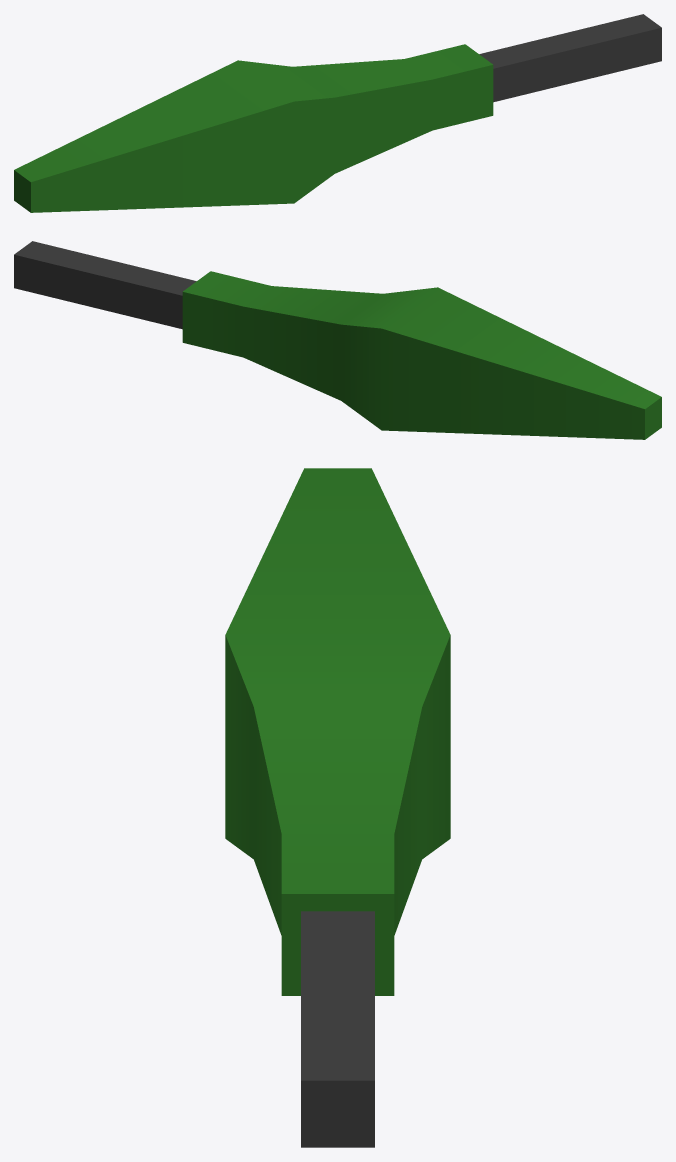
The model's file is Player_Missile.fbx.
The picture shows the model from 3 angles, top to bottom: view 1: azimuth 30°, elevation 25°; view 2: azimuth 150°, elevation 25°; view 3: azimuth 270°, elevation 25°; orthographic projection. The views are drawn at different scales.
Parts seen in each view (by area): view 1: Cube.001; view 2: Cube.001; view 3: Cube.001.
Part boxes in pixels (bbox=[...]): Cube.001: bbox=[14, 14, 661, 212]; Cube.001: bbox=[14, 241, 661, 439]; Cube.001: bbox=[225, 468, 450, 1147].
Size of the model in its own units: 64.66 by 10 by 10.
